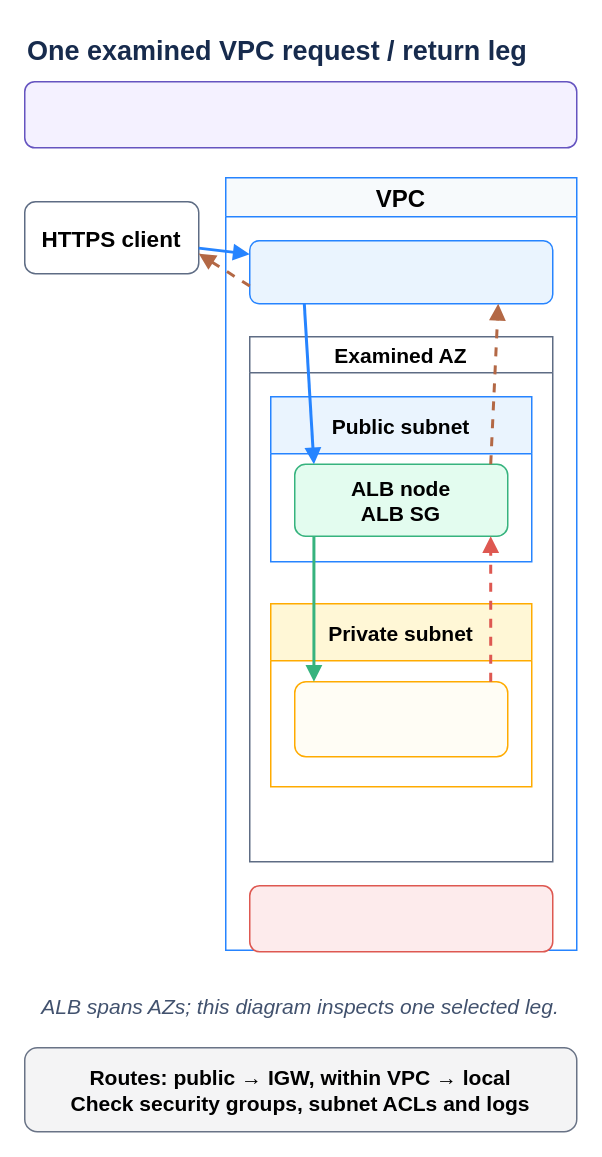
Image size: 602x1157. Some labels were removed from this diagram. The centre of each missing label's shape, as x and y in pixels:
"App target ENI target SG: ALB only" goes at point (400, 718).
"DNS query (separate control path) name resolves to ALB" goes at point (300, 114).
"Internet Gateway attached to VPC" goes at point (400, 271).
"NACL: stateless subnet check return ephemeral ports" goes at point (400, 918).
